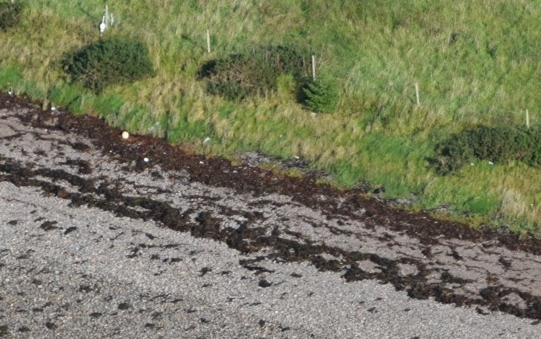scattered_barrel: (114, 126, 221, 170)
